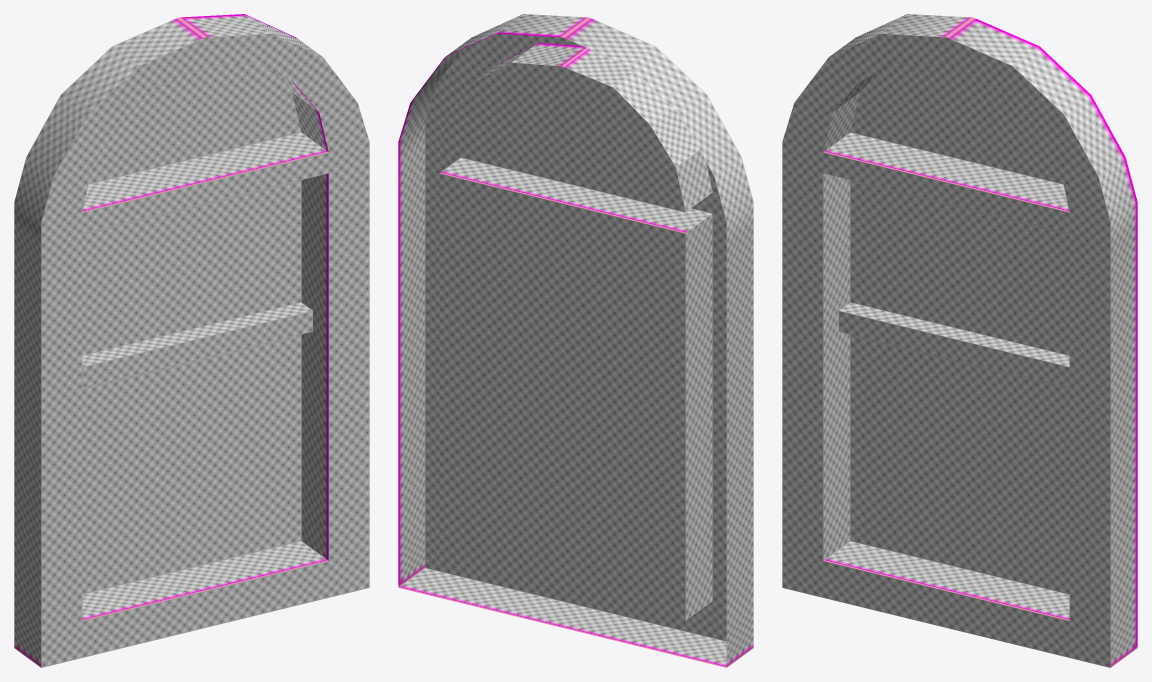
Rendered from Window_Circular.fbx.
3 renders of one model, left to right at view 1: azimuth 30°, elevation 25°; view 2: azimuth 150°, elevation 25°; view 3: azimuth 330°, elevation 25°, orthographic.
Parts seen in each view (by area): view 1: Window_Circular, Window_Stick; view 2: Window_Circular; view 3: Window_Circular, Window_Stick.
Boxes of the visible parts, x1,y1,x2,y2 form: Window_Circular: [14, 14, 369, 667]; Window_Stick: [82, 302, 312, 387]; Window_Circular: [398, 14, 753, 667]; Window_Circular: [782, 14, 1137, 667]; Window_Stick: [839, 302, 1069, 387].
Size of the model in its own units: 175 by 300 by 25.
